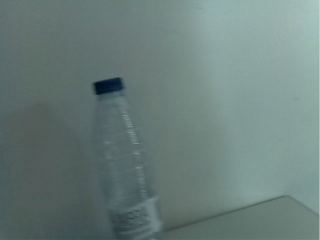botella plastico: (91, 77, 165, 240)
